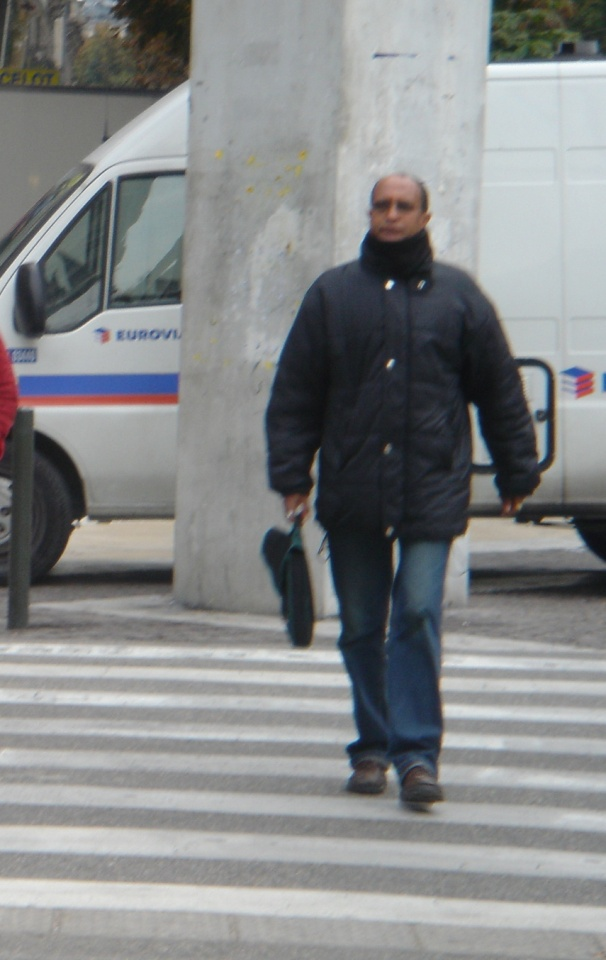person: (286, 165, 500, 806)
